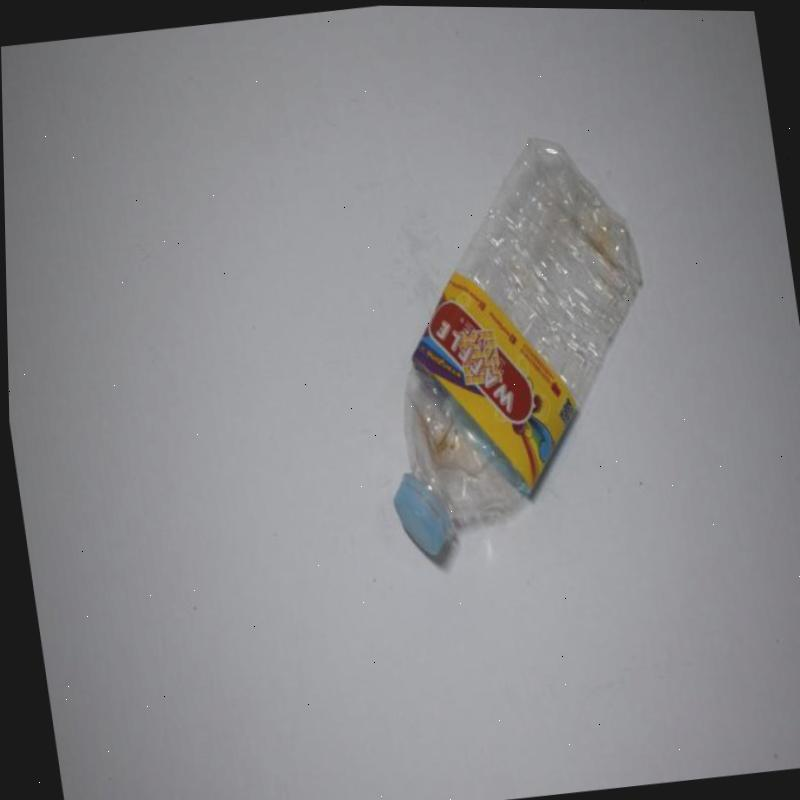botella: (341, 121, 678, 567)
